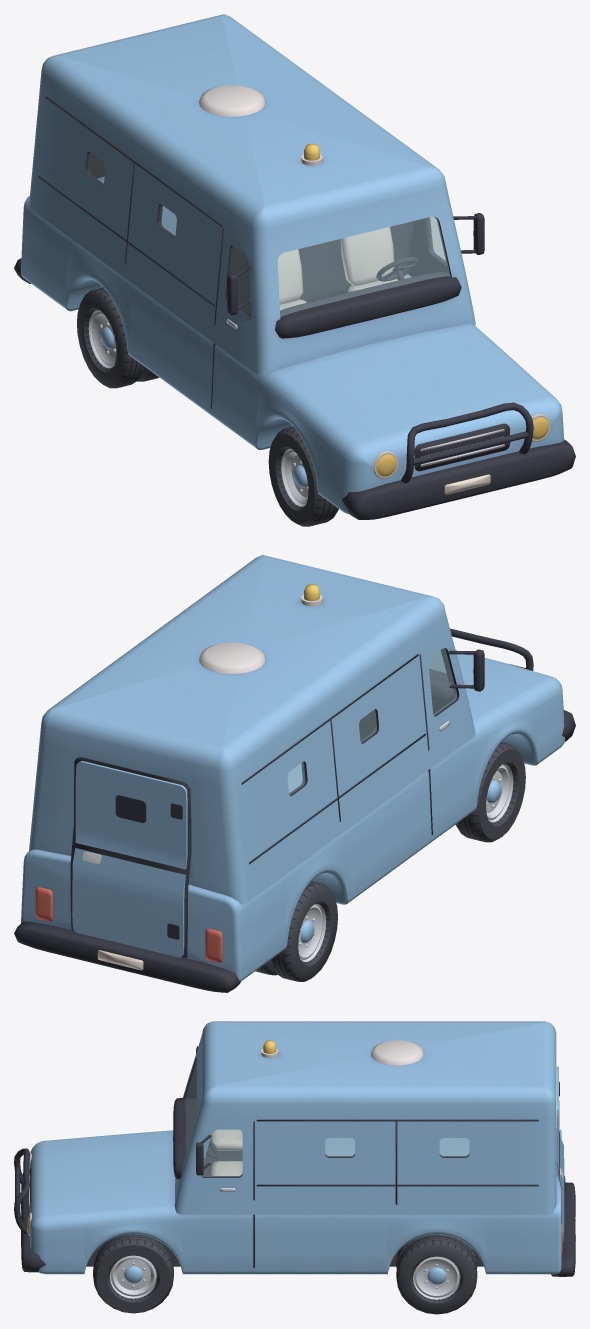
Rendered from hauler.glb.
3 renders of one model, top to bottom at view 1: azimuth 30°, elevation 25°; view 2: azimuth 150°, elevation 25°; view 3: azimuth 270°, elevation 25°, orthographic. The views are drawn at different scales.
Parts seen in each view (by area): view 1: armored-truck_body, armored-truck_windows, armored-truck_wheel_rr, armored-truck_wheel_fr; view 2: armored-truck_body, armored-truck_rear_door, armored-truck_wheel_rr, armored-truck_wheel_fr, armored-truck_windows; view 3: armored-truck_body, armored-truck_wheel_rl, armored-truck_wheel_fl, armored-truck_windows, armored-truck_rear_door.
Part boxes in pixels (x1,y1,x2,y2): armored-truck_body: (14, 14, 575, 519); armored-truck_windows: (87, 152, 450, 318); armored-truck_wheel_rr: (77, 287, 159, 388); armored-truck_wheel_fr: (268, 426, 338, 526); armored-truck_body: (14, 555, 575, 992); armored-truck_rear_door: (72, 761, 187, 957); armored-truck_wheel_rr: (255, 881, 337, 981); armored-truck_wheel_fr: (455, 742, 525, 842); armored-truck_windows: (288, 648, 456, 794); armored-truck_body: (14, 1021, 575, 1276); armored-truck_wheel_rl: (396, 1234, 477, 1314); armored-truck_wheel_fl: (93, 1234, 173, 1313); armored-truck_windows: (185, 1063, 468, 1176); armored-truck_rear_door: (556, 1066, 565, 1241).
Bounding box in the file's own units: 2.67 × 2.92 × 6.39.
Materials: 17 (5 with a texture image).
